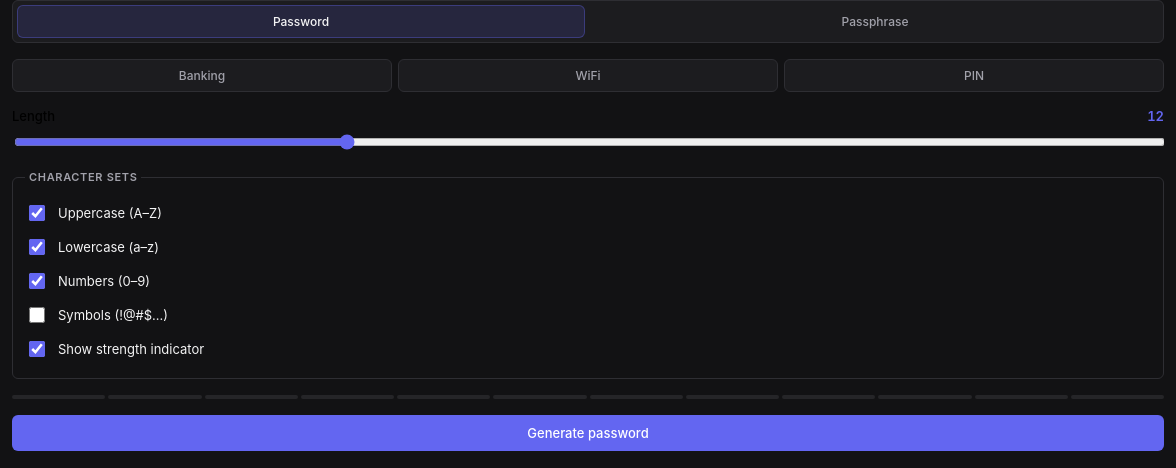
Test: PasswordGeneratorForm (UI-GEN) › UI-GEN-11: banking preset applies length 16 and all char sets
Click the button "Banking": (202, 76) [12,59,392,92]
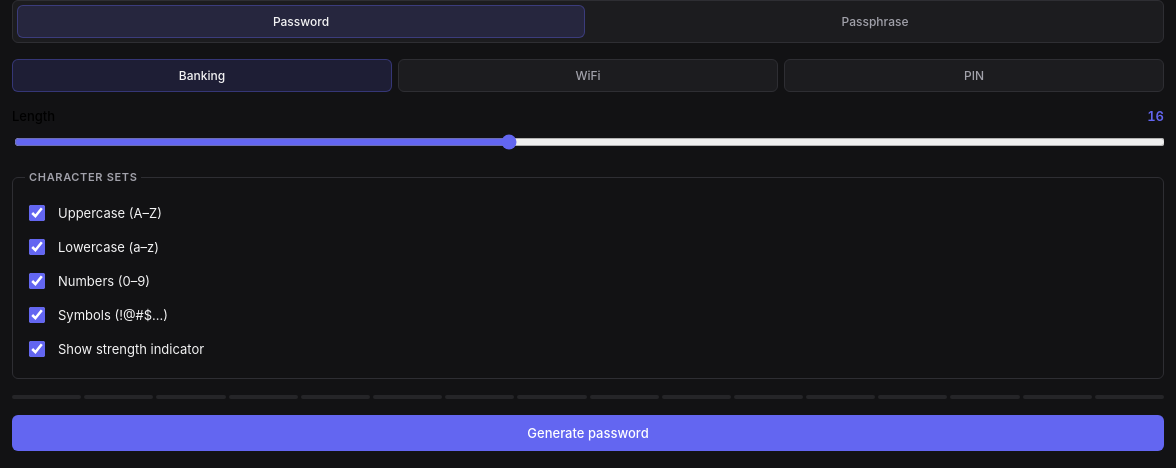
expect the checkbox labelled "Uppercase (A–Z)" is checked: met, box [29,205,45,221]
expect the checkbox labelled "Symbols (!@#$…)" is checked: met, box [29,307,45,323]
